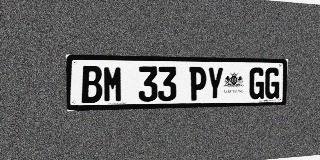3: (139, 66, 158, 102), (158, 66, 177, 101)
B: (81, 66, 102, 103)
G: (249, 67, 265, 99), (264, 68, 280, 99)
M: (103, 66, 123, 103)
P: (189, 67, 207, 101)
Y: (206, 67, 224, 100)
